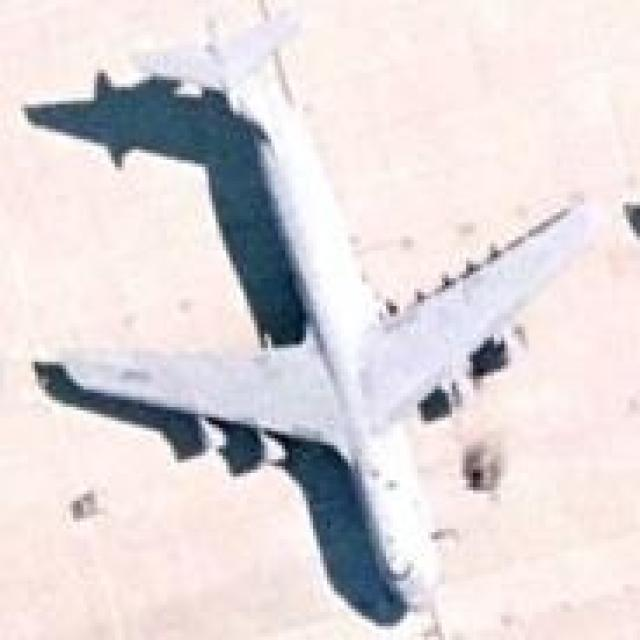C-5_TopDown: (19, 8, 603, 604)
